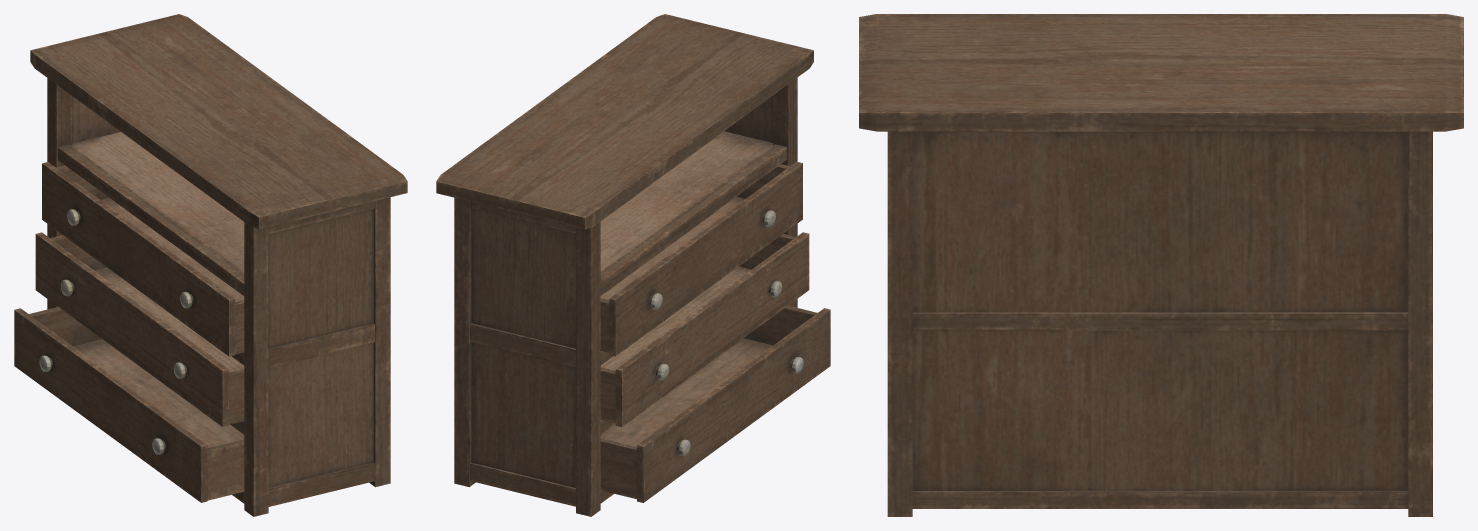
Rendered from LKB0Z15Y2JSWNIKSJZ9B8WCNY.obj.
3 renders of one model, left to right at view 1: azimuth 30°, elevation 25°; view 2: azimuth 150°, elevation 25°; view 3: azimuth 270°, elevation 25°, orthographic. The views are drawn at different scales.
Visible parts, largest first — view 1: Object_TexMap1_0; view 2: Object_TexMap1_0; view 3: Object_TexMap1_0.
Part boxes in pixels (box(x1,y1,x2,y2)): Object_TexMap1_0: box(14, 14, 407, 516); Object_TexMap1_0: box(436, 14, 830, 516); Object_TexMap1_0: box(859, 14, 1463, 516).
Size of the model in its own units: 1.24 by 1.87 by 2.5.
1 material, 1 textured.
